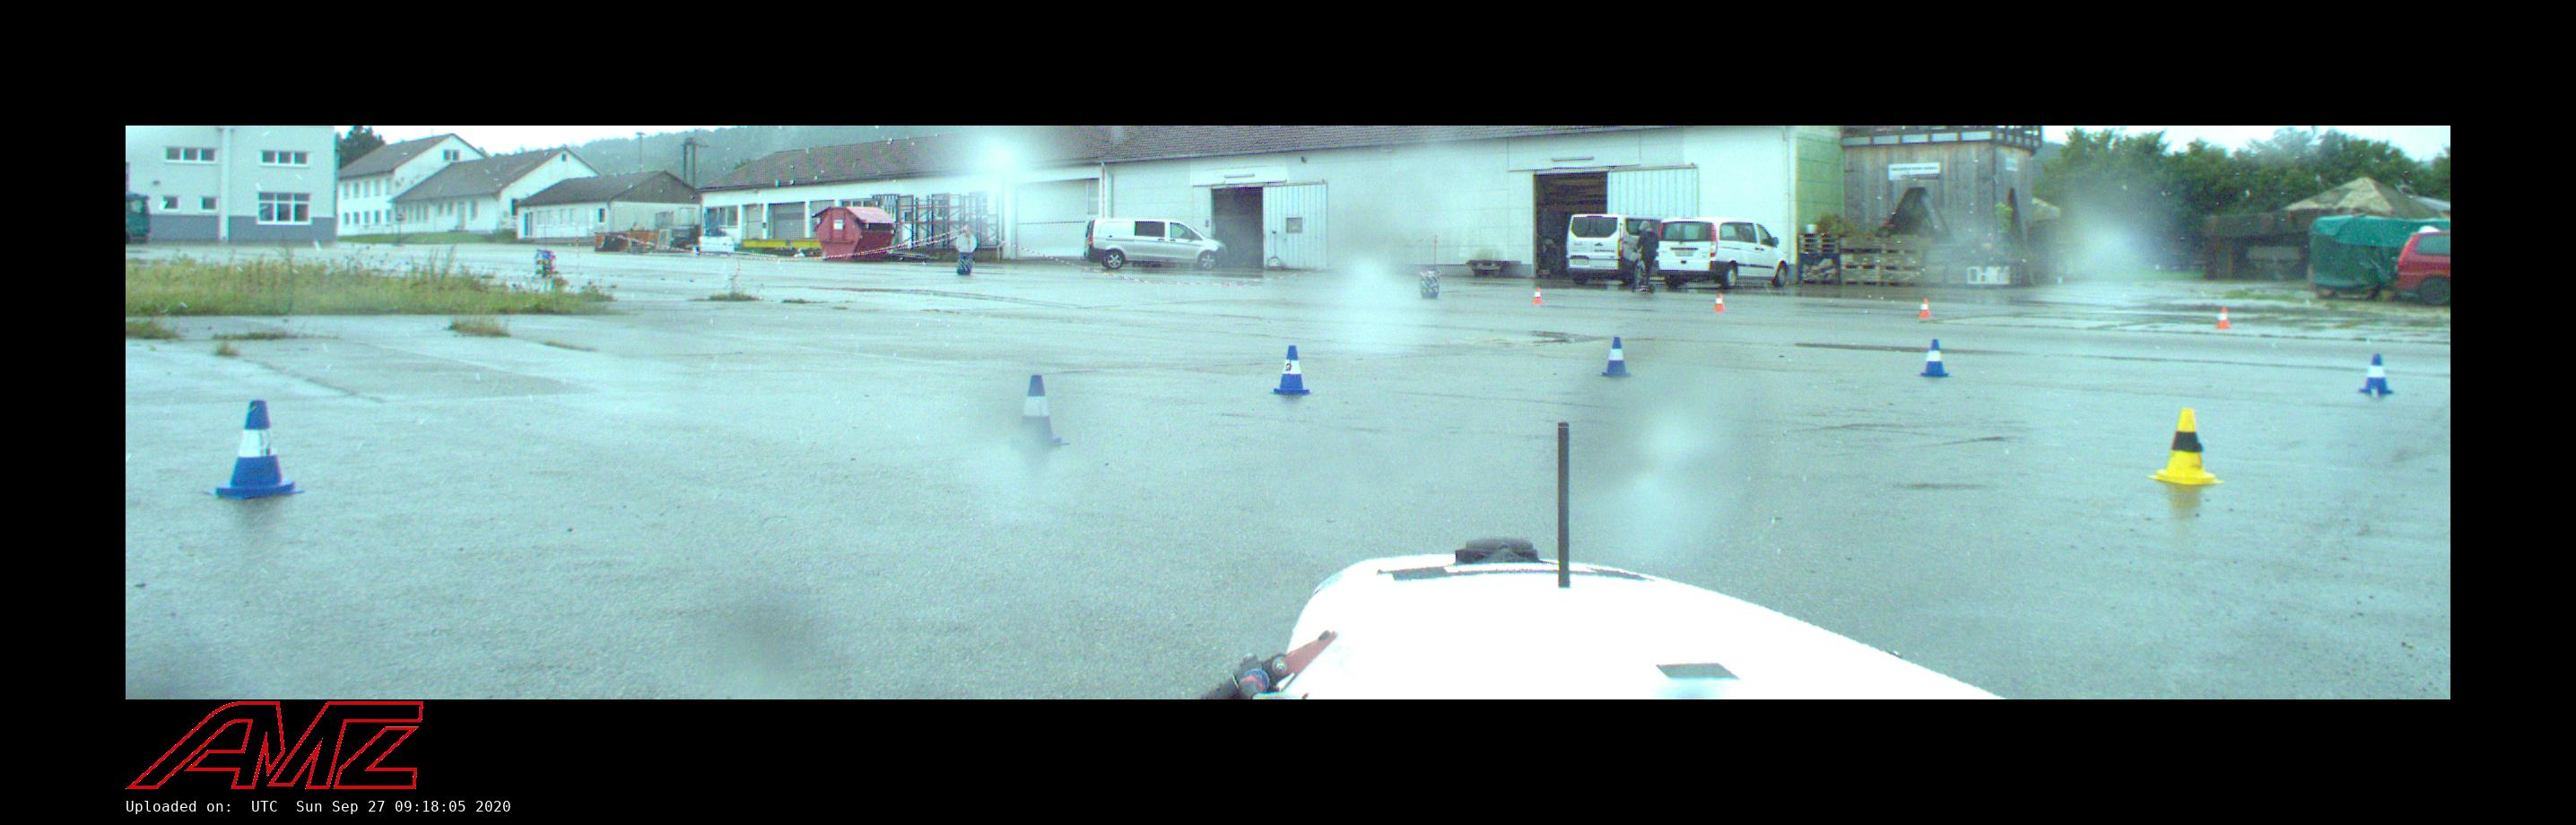blue_cone: (205, 401, 304, 499), (1006, 376, 1069, 447), (1271, 346, 1312, 395), (1598, 337, 1634, 378), (2359, 355, 2393, 394), (1918, 339, 1952, 377)
orange_cone: (2215, 307, 2231, 328), (1918, 299, 1933, 317), (1713, 293, 1726, 310), (1532, 288, 1544, 303)
yellow_cone: (2148, 409, 2224, 484)
